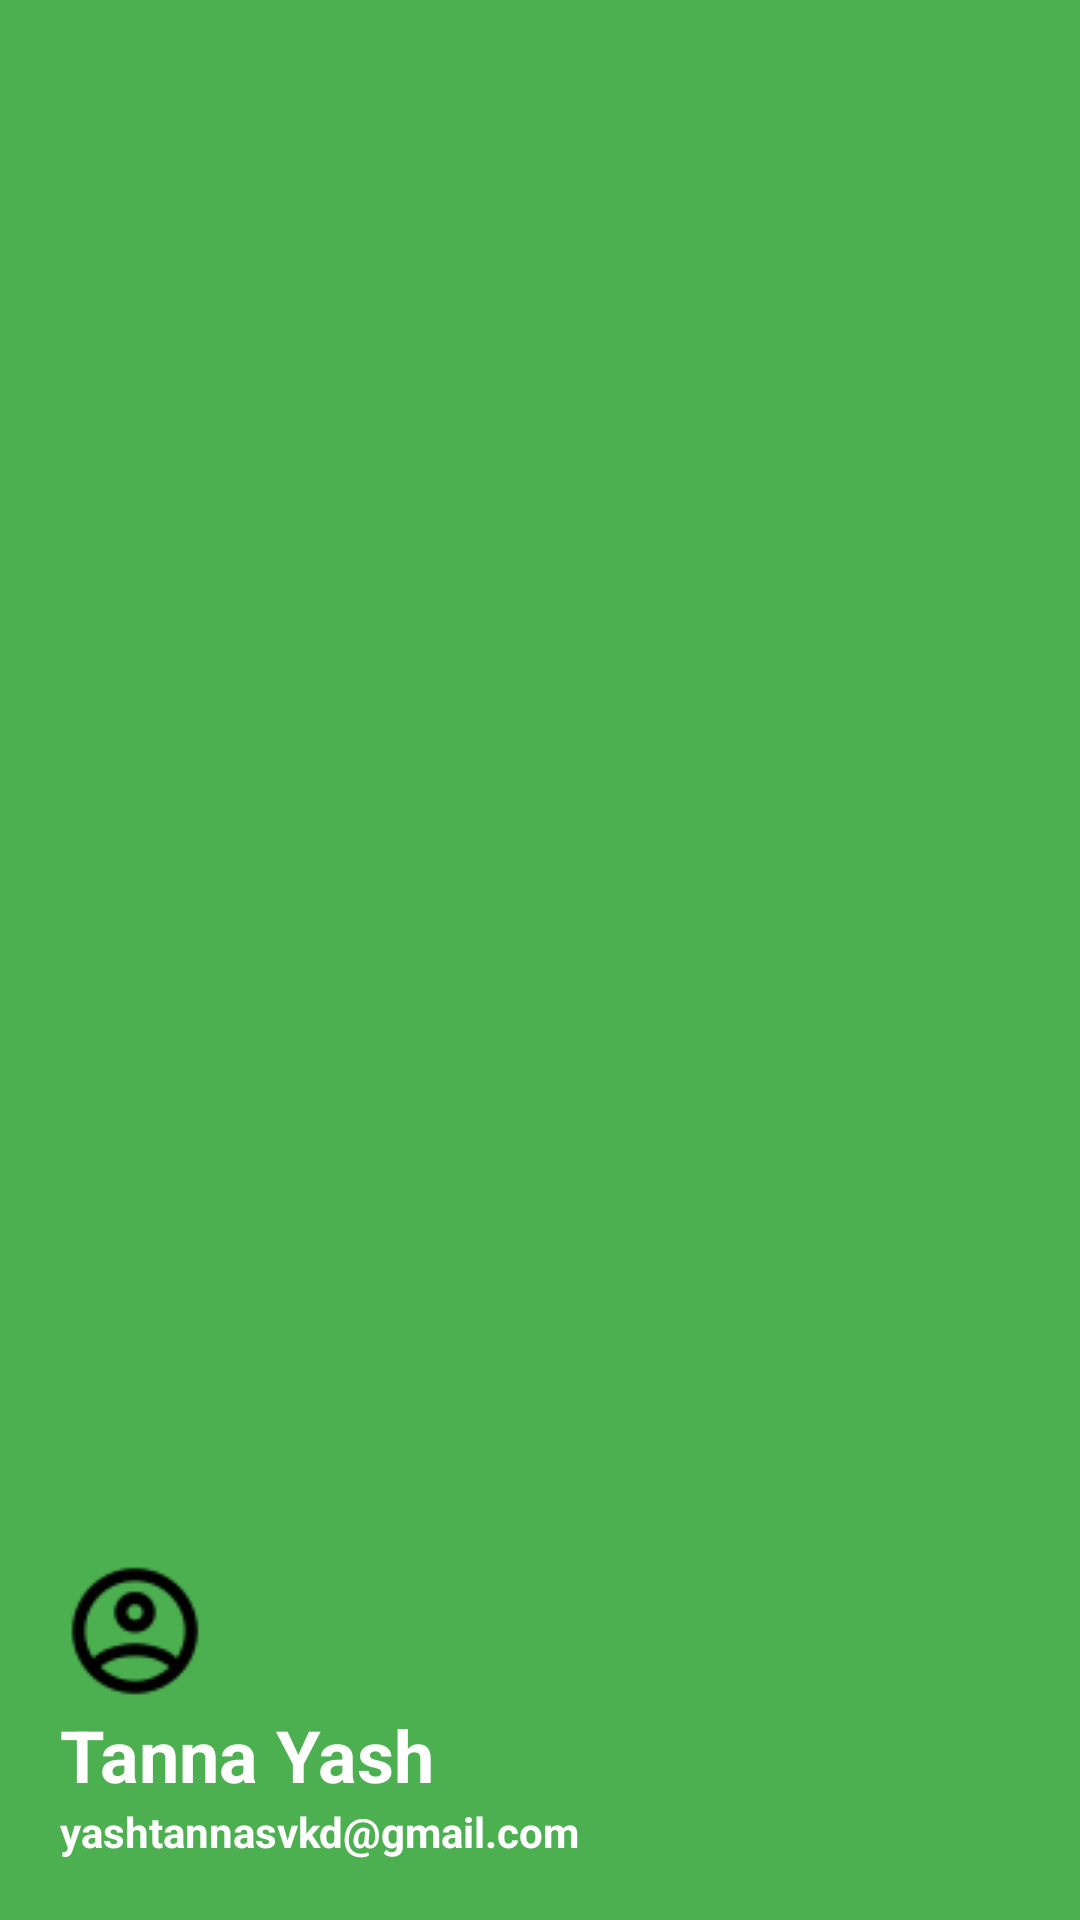

Icons on this 1080px x 1920px Android screen, each with its box as box(x1, y1, x2, y2):
profile: box(71, 1567, 199, 1695)
